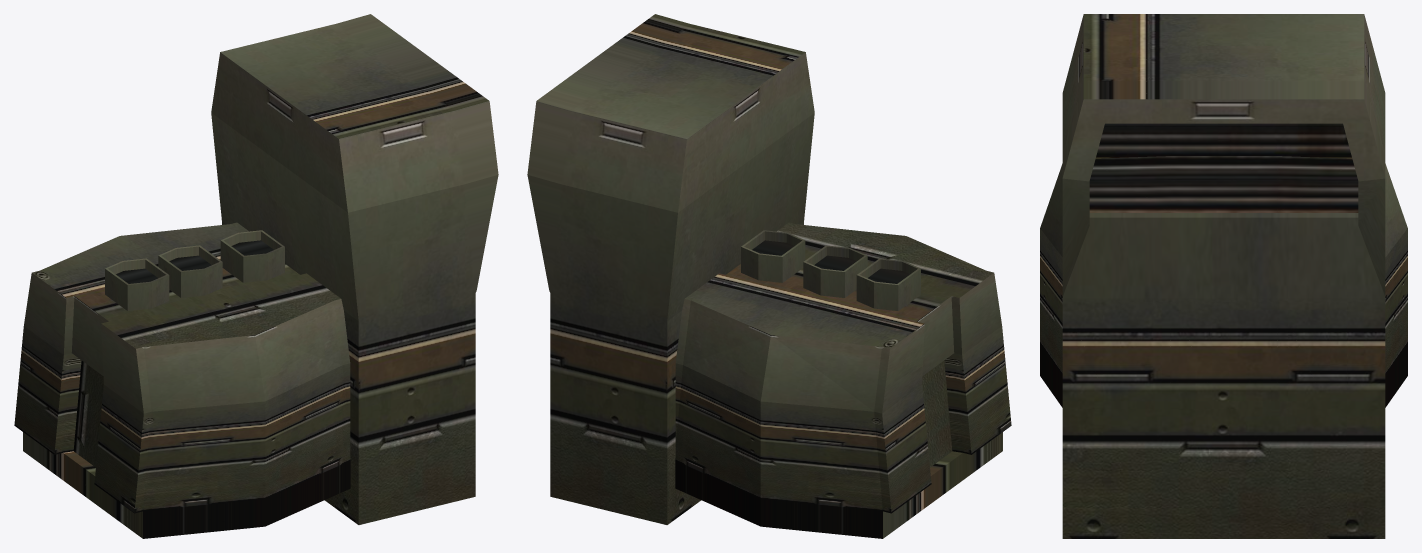
The model's file is rep_field.dae.
The picture shows the model from 3 angles, left to right: view 1: azimuth 30°, elevation 25°; view 2: azimuth 150°, elevation 25°; view 3: azimuth 270°, elevation 25°; orthographic projection. The views are drawn at different scales.
Visible parts, largest first — view 1: farm; view 2: farm; view 3: farm.
Boxes of the visible parts, x1,y1,x2,y2 form: farm: (14,14,498,538); farm: (527,14,1011,538); farm: (1040,14,1407,538).
Size of the model in its own units: 22.34 by 16.94 by 23.02.
